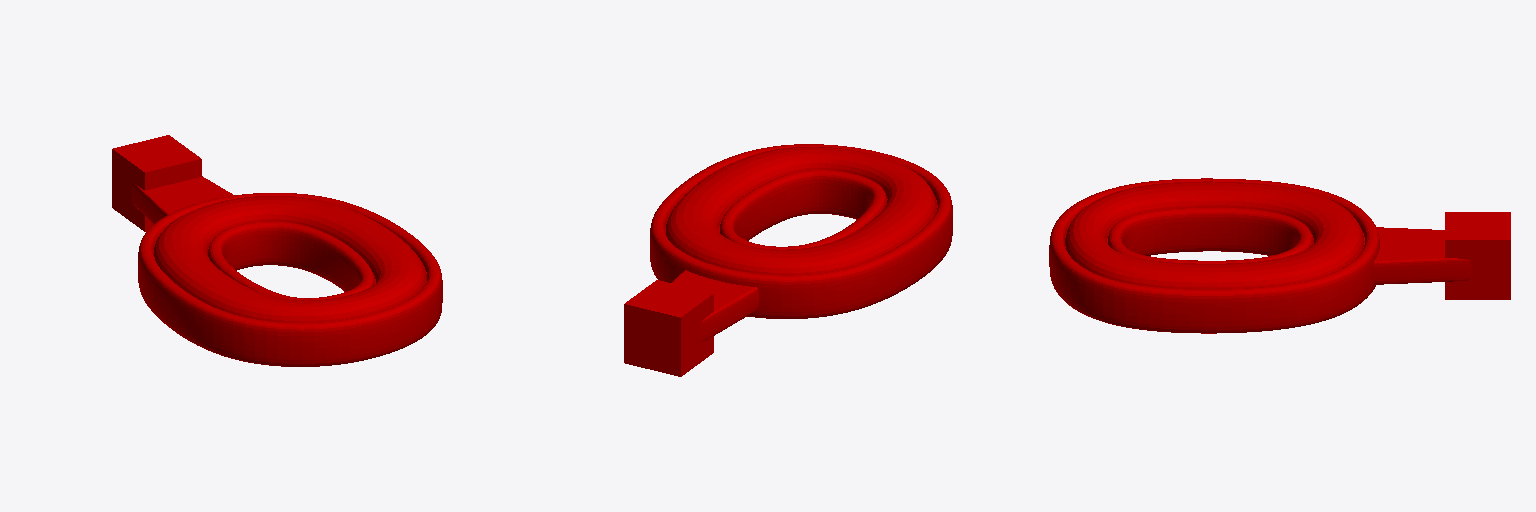
Rendered from number_0.obj.
The picture shows the model from 3 angles: view 1: azimuth 30°, elevation 25°; view 2: azimuth 150°, elevation 25°; view 3: azimuth 270°, elevation 25°; orthographic projection.
Parts seen in each view (by area): view 1: 20820_Number_0_v1, Cube; view 2: 20820_Number_0_v1, Cube; view 3: 20820_Number_0_v1, Cube.
Boxes of the visible parts, x1=… form: 20820_Number_0_v1: x1=131, y1=176, x2=442, y2=366; Cube: x1=112, y1=135, x2=201, y2=231; 20820_Number_0_v1: x1=650, y1=144, x2=952, y2=341; Cube: x1=624, y1=280, x2=713, y2=376; 20820_Number_0_v1: x1=1049, y1=178, x2=1471, y2=333; Cube: x1=1445, y1=212, x2=1510, y2=299.
Bounding box in the file's own units: 8.51 × 2 × 14.08.